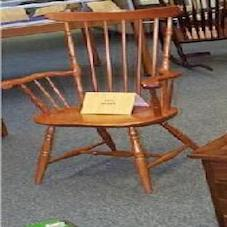chair: (11, 5, 202, 190)
